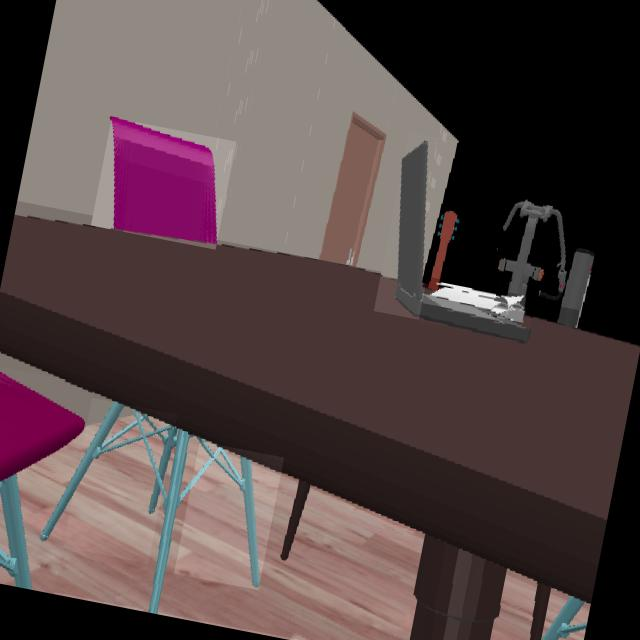book: (422, 283, 530, 342)
chair: (0, 373, 86, 590), (39, 404, 170, 543), (112, 118, 216, 247), (200, 442, 261, 590), (148, 431, 191, 614)
laptop: (395, 140, 527, 340)
table: (0, 217, 640, 640)
